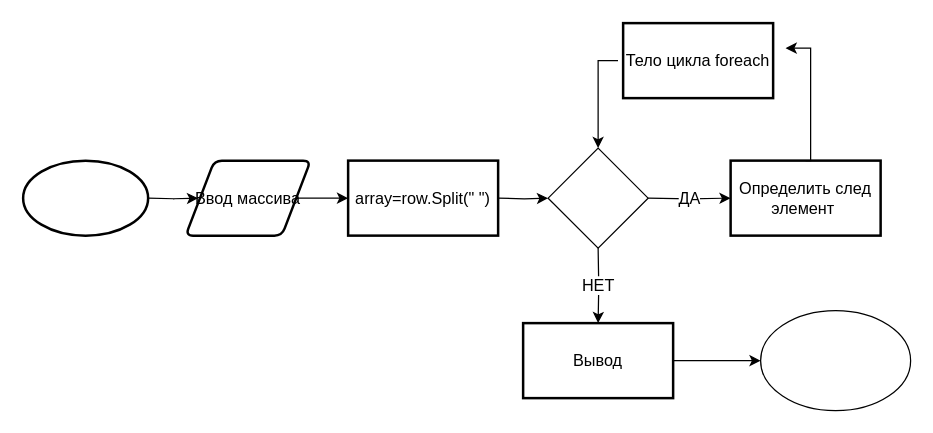
Image size: 933x433. Some labels were removed from this diagram. Here are the shapes that lost their labels. From the top down, the centre of each, then its label:
(x=85, y=197): Начало
(x=597, y=197): Остались ли строки массива <=3
(x=835, y=360): Конец
